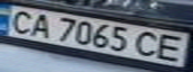0: (72, 18, 96, 47)
5: (109, 25, 133, 54)
6: (90, 21, 115, 51)
7: (51, 15, 78, 43)
A: (24, 11, 57, 39)
C: (3, 7, 39, 35), (133, 29, 163, 60)
E: (151, 33, 190, 63)
